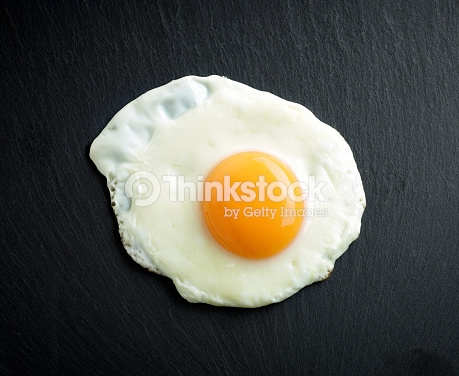fried egg: (119, 104, 334, 281)
